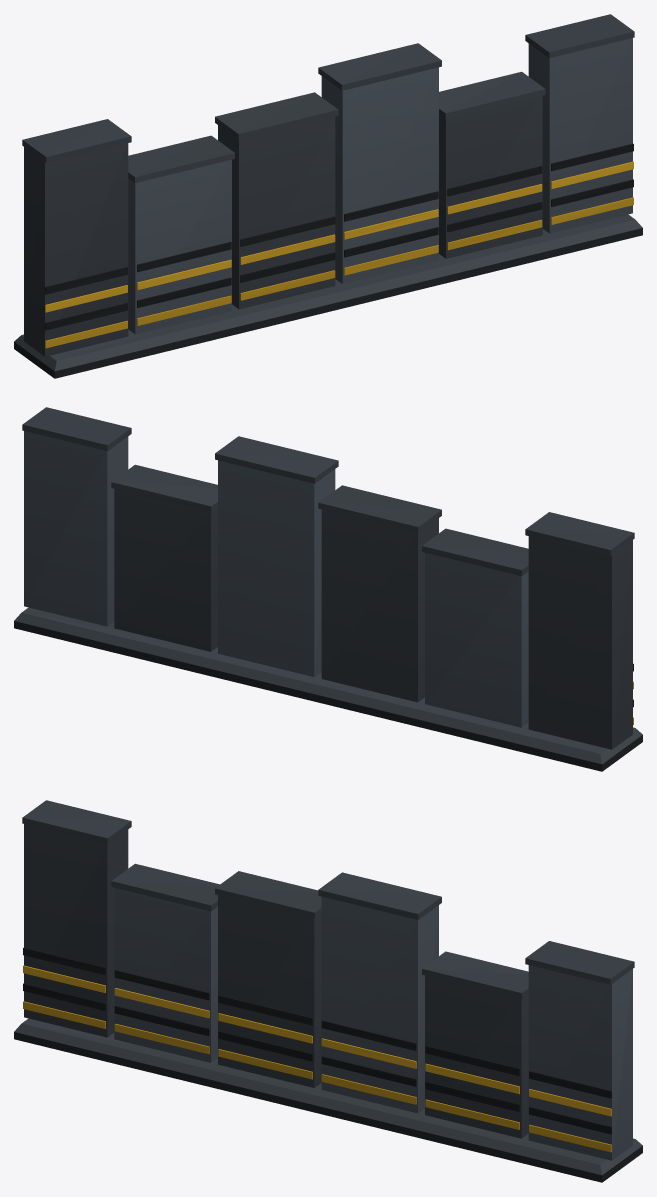
File: outpost-blast-wall.glb
3 renders of one model, top to bottom at view 1: azimuth 30°, elevation 25°; view 2: azimuth 150°, elevation 25°; view 3: azimuth 330°, elevation 25°, orthographic.
Bounding box in the file's own units: 10 × 3.5 × 1.2.
